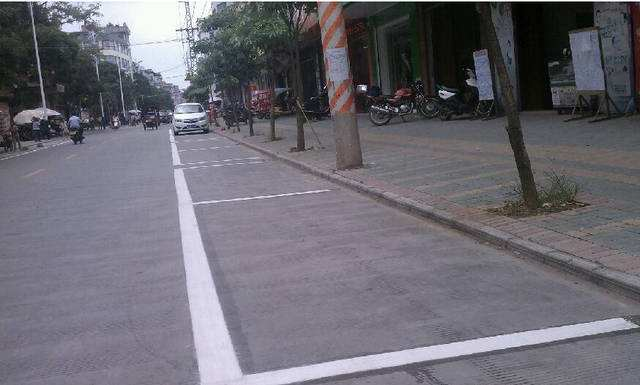slot_nocar: (182, 182, 638, 385), (168, 154, 340, 212), (160, 144, 284, 168), (164, 130, 235, 145)
